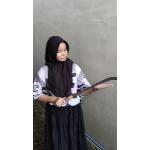Golok: (61, 73, 117, 105)
